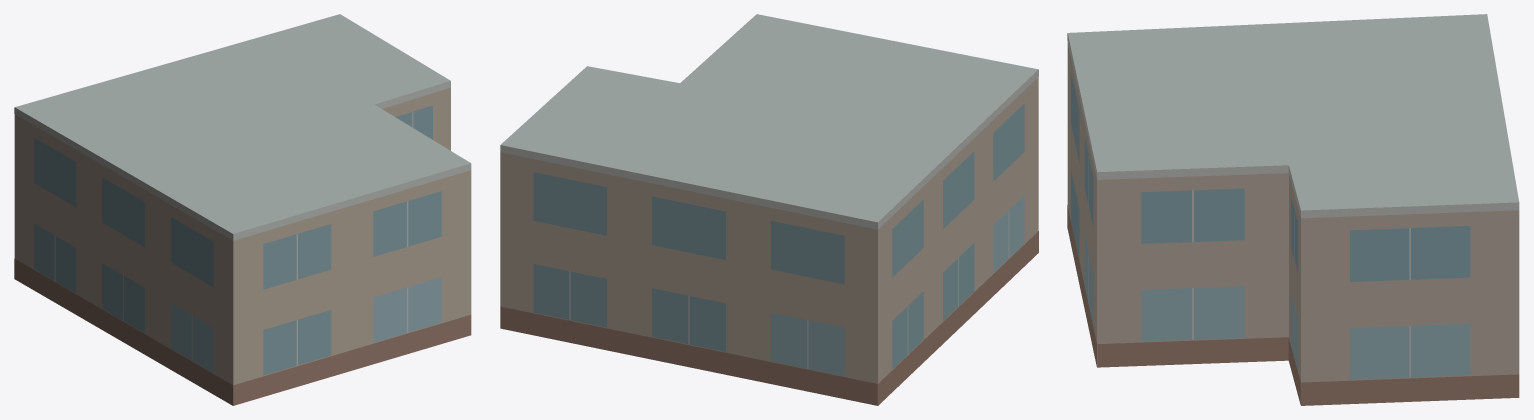
The model's file is survey-upis-32764770.glb.
3 renders of one model, left to right at view 1: azimuth 30°, elevation 25°; view 2: azimuth 150°, elevation 25°; view 3: azimuth 270°, elevation 25°, orthographic. The views are drawn at different scales.
Parts seen in each view (by area): view 1: survey-upis-32764770.tmp; view 2: survey-upis-32764770.tmp; view 3: survey-upis-32764770.tmp.
Boxes of the visible parts, left/top/right/bottom form: survey-upis-32764770.tmp: left=14, top=14, right=471, bottom=405; survey-upis-32764770.tmp: left=500, top=14, right=1038, bottom=405; survey-upis-32764770.tmp: left=1067, top=14, right=1519, bottom=405.
Bounding box in the file's own units: 13.17 × 6.1 × 12.79.
